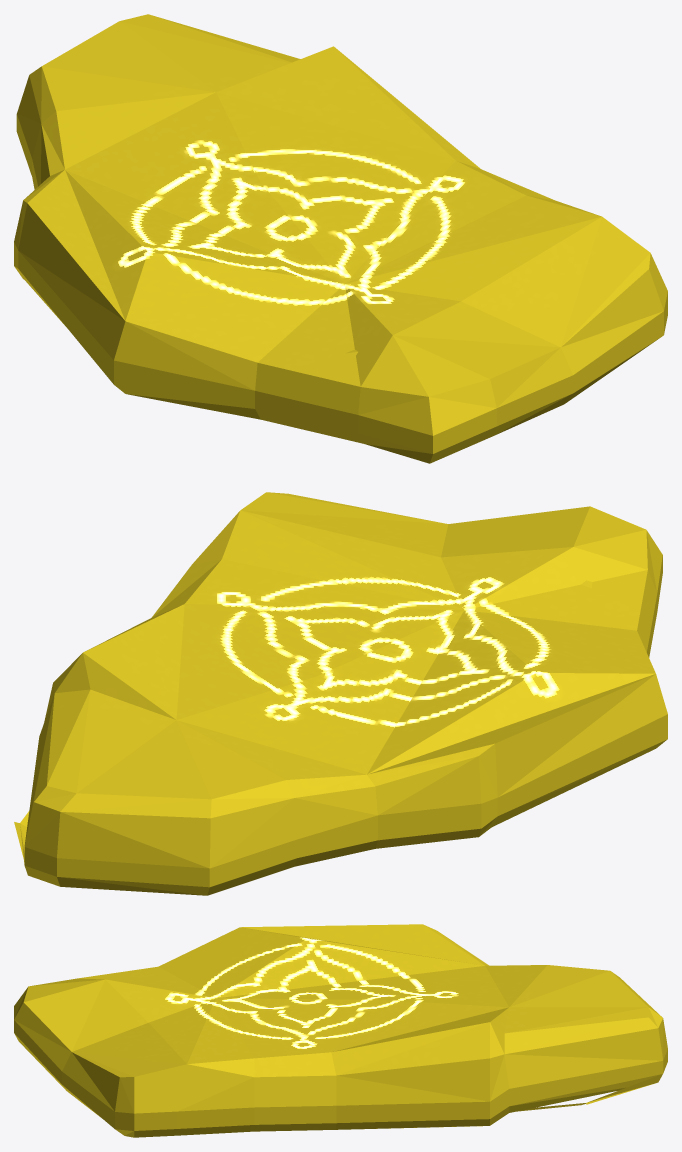
The model's file is shell_02.glb.
The picture shows the model from 3 angles, top to bottom: view 1: azimuth 30°, elevation 25°; view 2: azimuth 150°, elevation 25°; view 3: azimuth 270°, elevation 25°; orthographic projection. The views are drawn at different scales.
Visible parts, largest first — view 1: Mesh1.038; view 2: Mesh1.038; view 3: Mesh1.038.
Boxes of the visible parts, left/top/right/bottom form: Mesh1.038: left=14, top=14, right=667, bottom=463; Mesh1.038: left=14, top=492, right=667, bottom=895; Mesh1.038: left=14, top=924, right=667, bottom=1137.
Size of the model in its own units: 0.3249 by 0.0861 by 0.5323.
